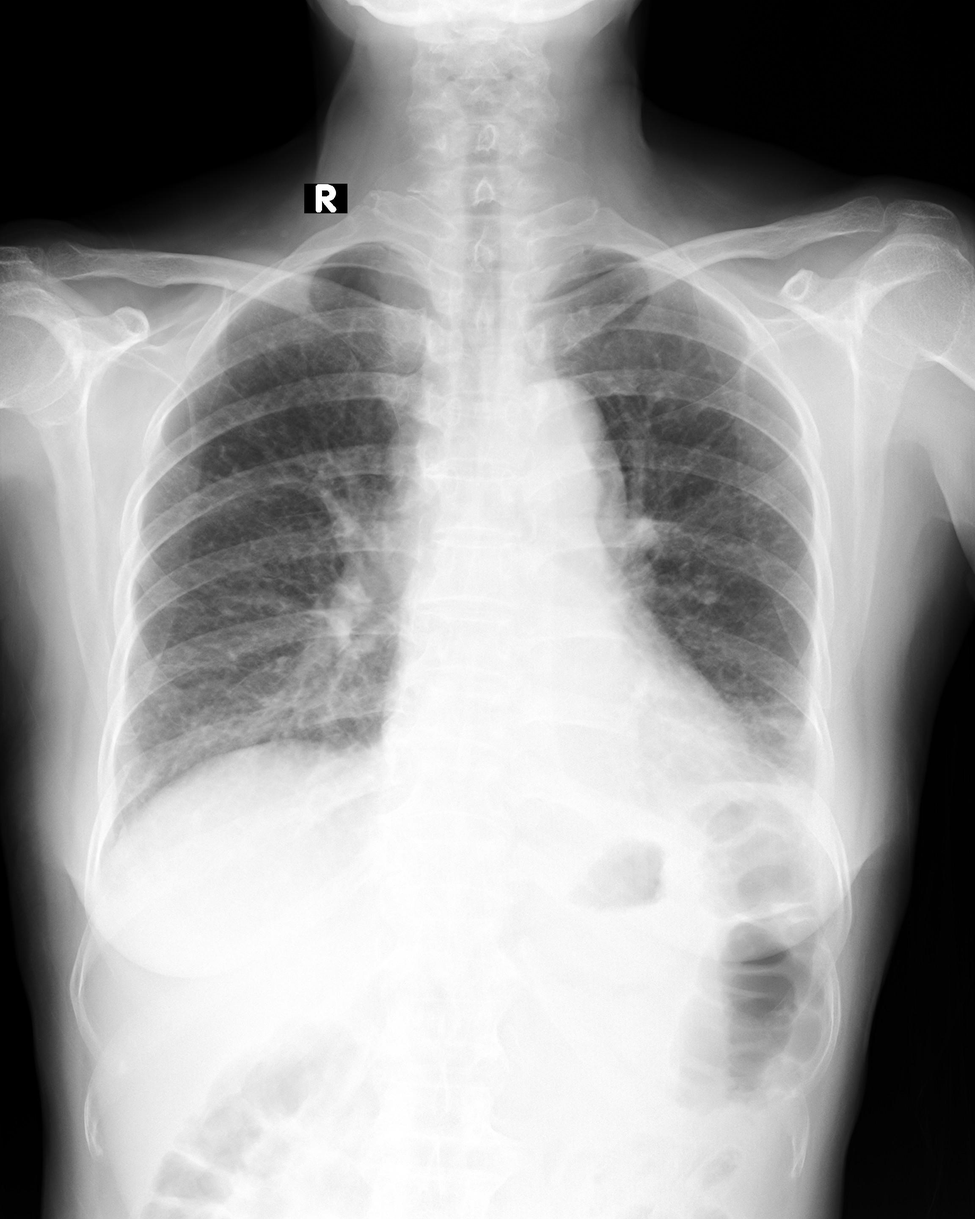Aortic enlargement: (500, 376, 629, 520)
Cardiomegaly: (368, 686, 765, 786)
